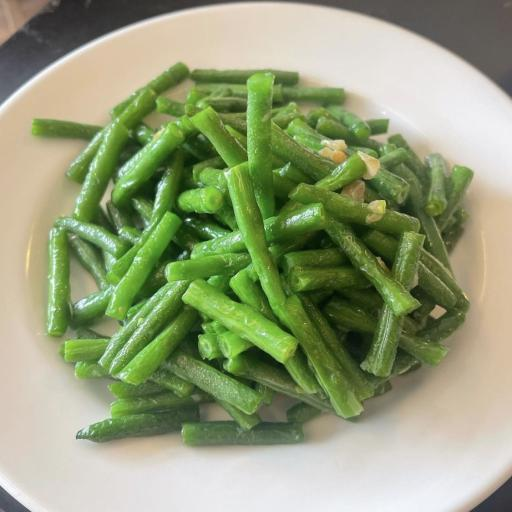buncis_rebus: (20, 44, 490, 460)
